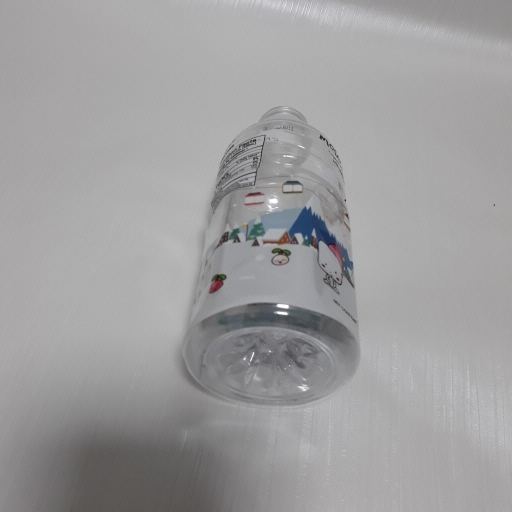Plastic_0: (179, 106, 361, 407)
